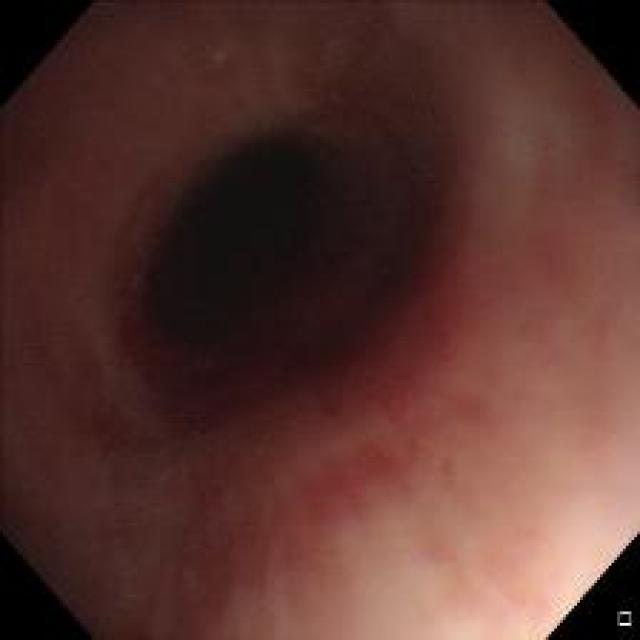color misalignment: (209, 46, 228, 65)
contrast: (85, 40, 512, 419)
